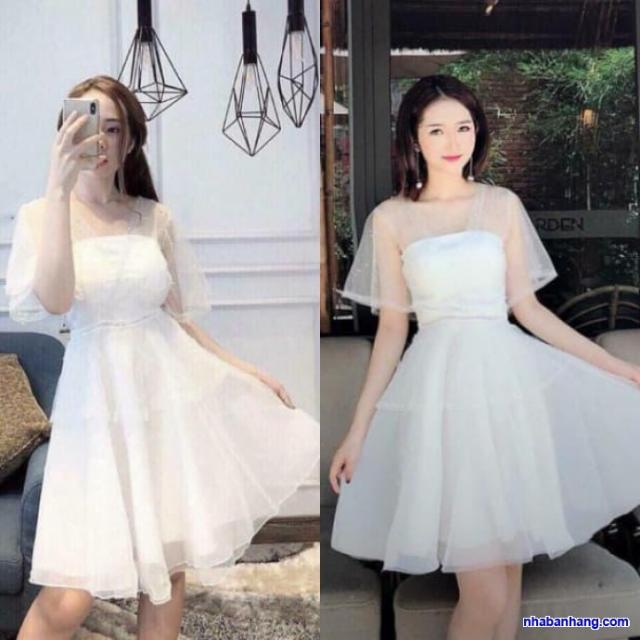clothes: (15, 189, 290, 595), (342, 186, 618, 566)
